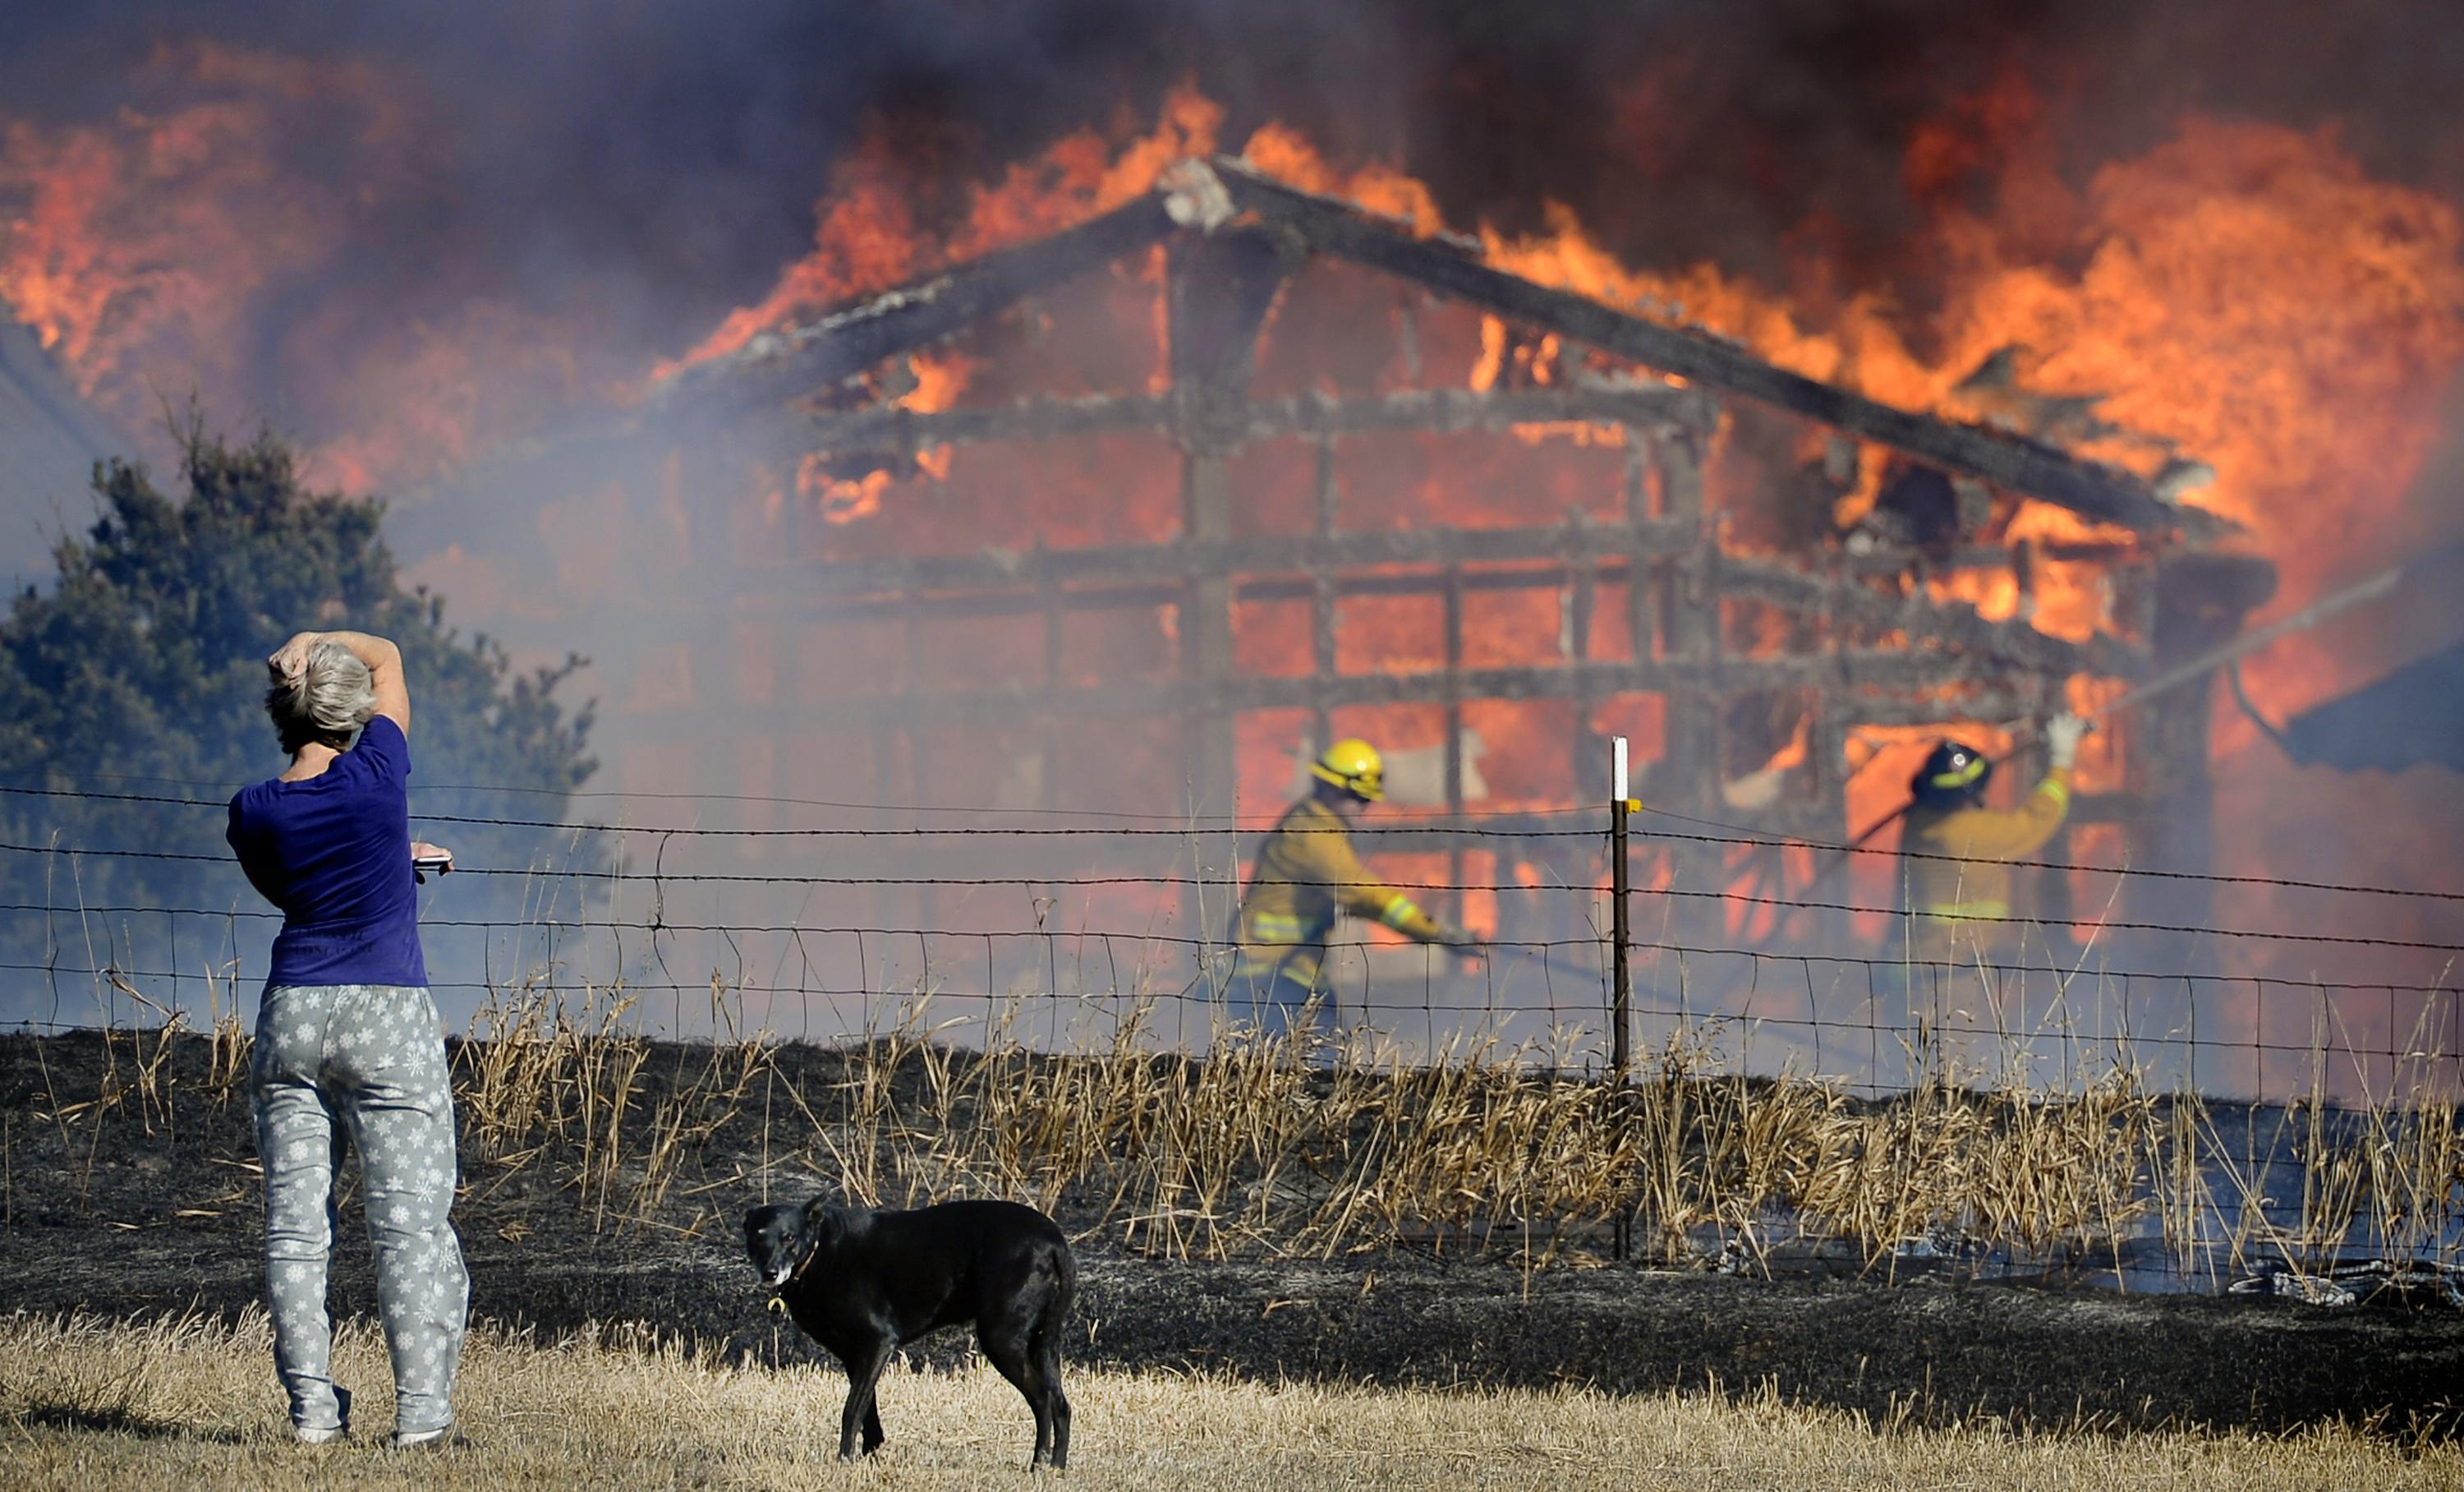Fire: (764, 33, 2314, 750), (2, 106, 278, 366)
